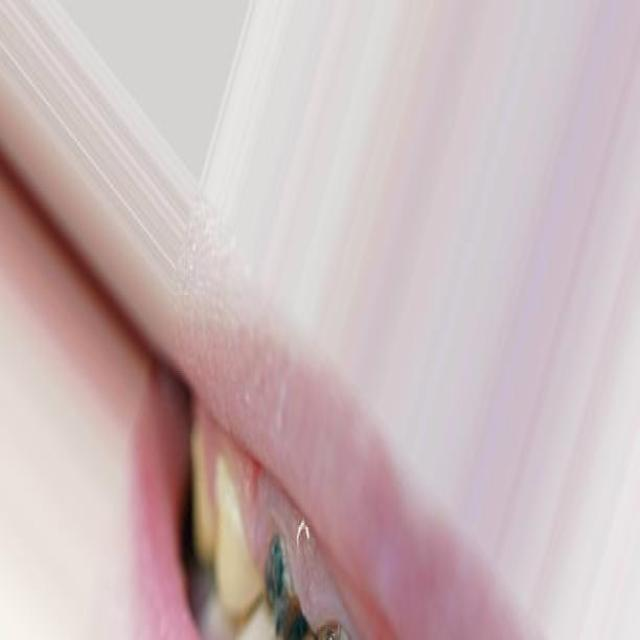caries: (255, 516, 314, 640)
